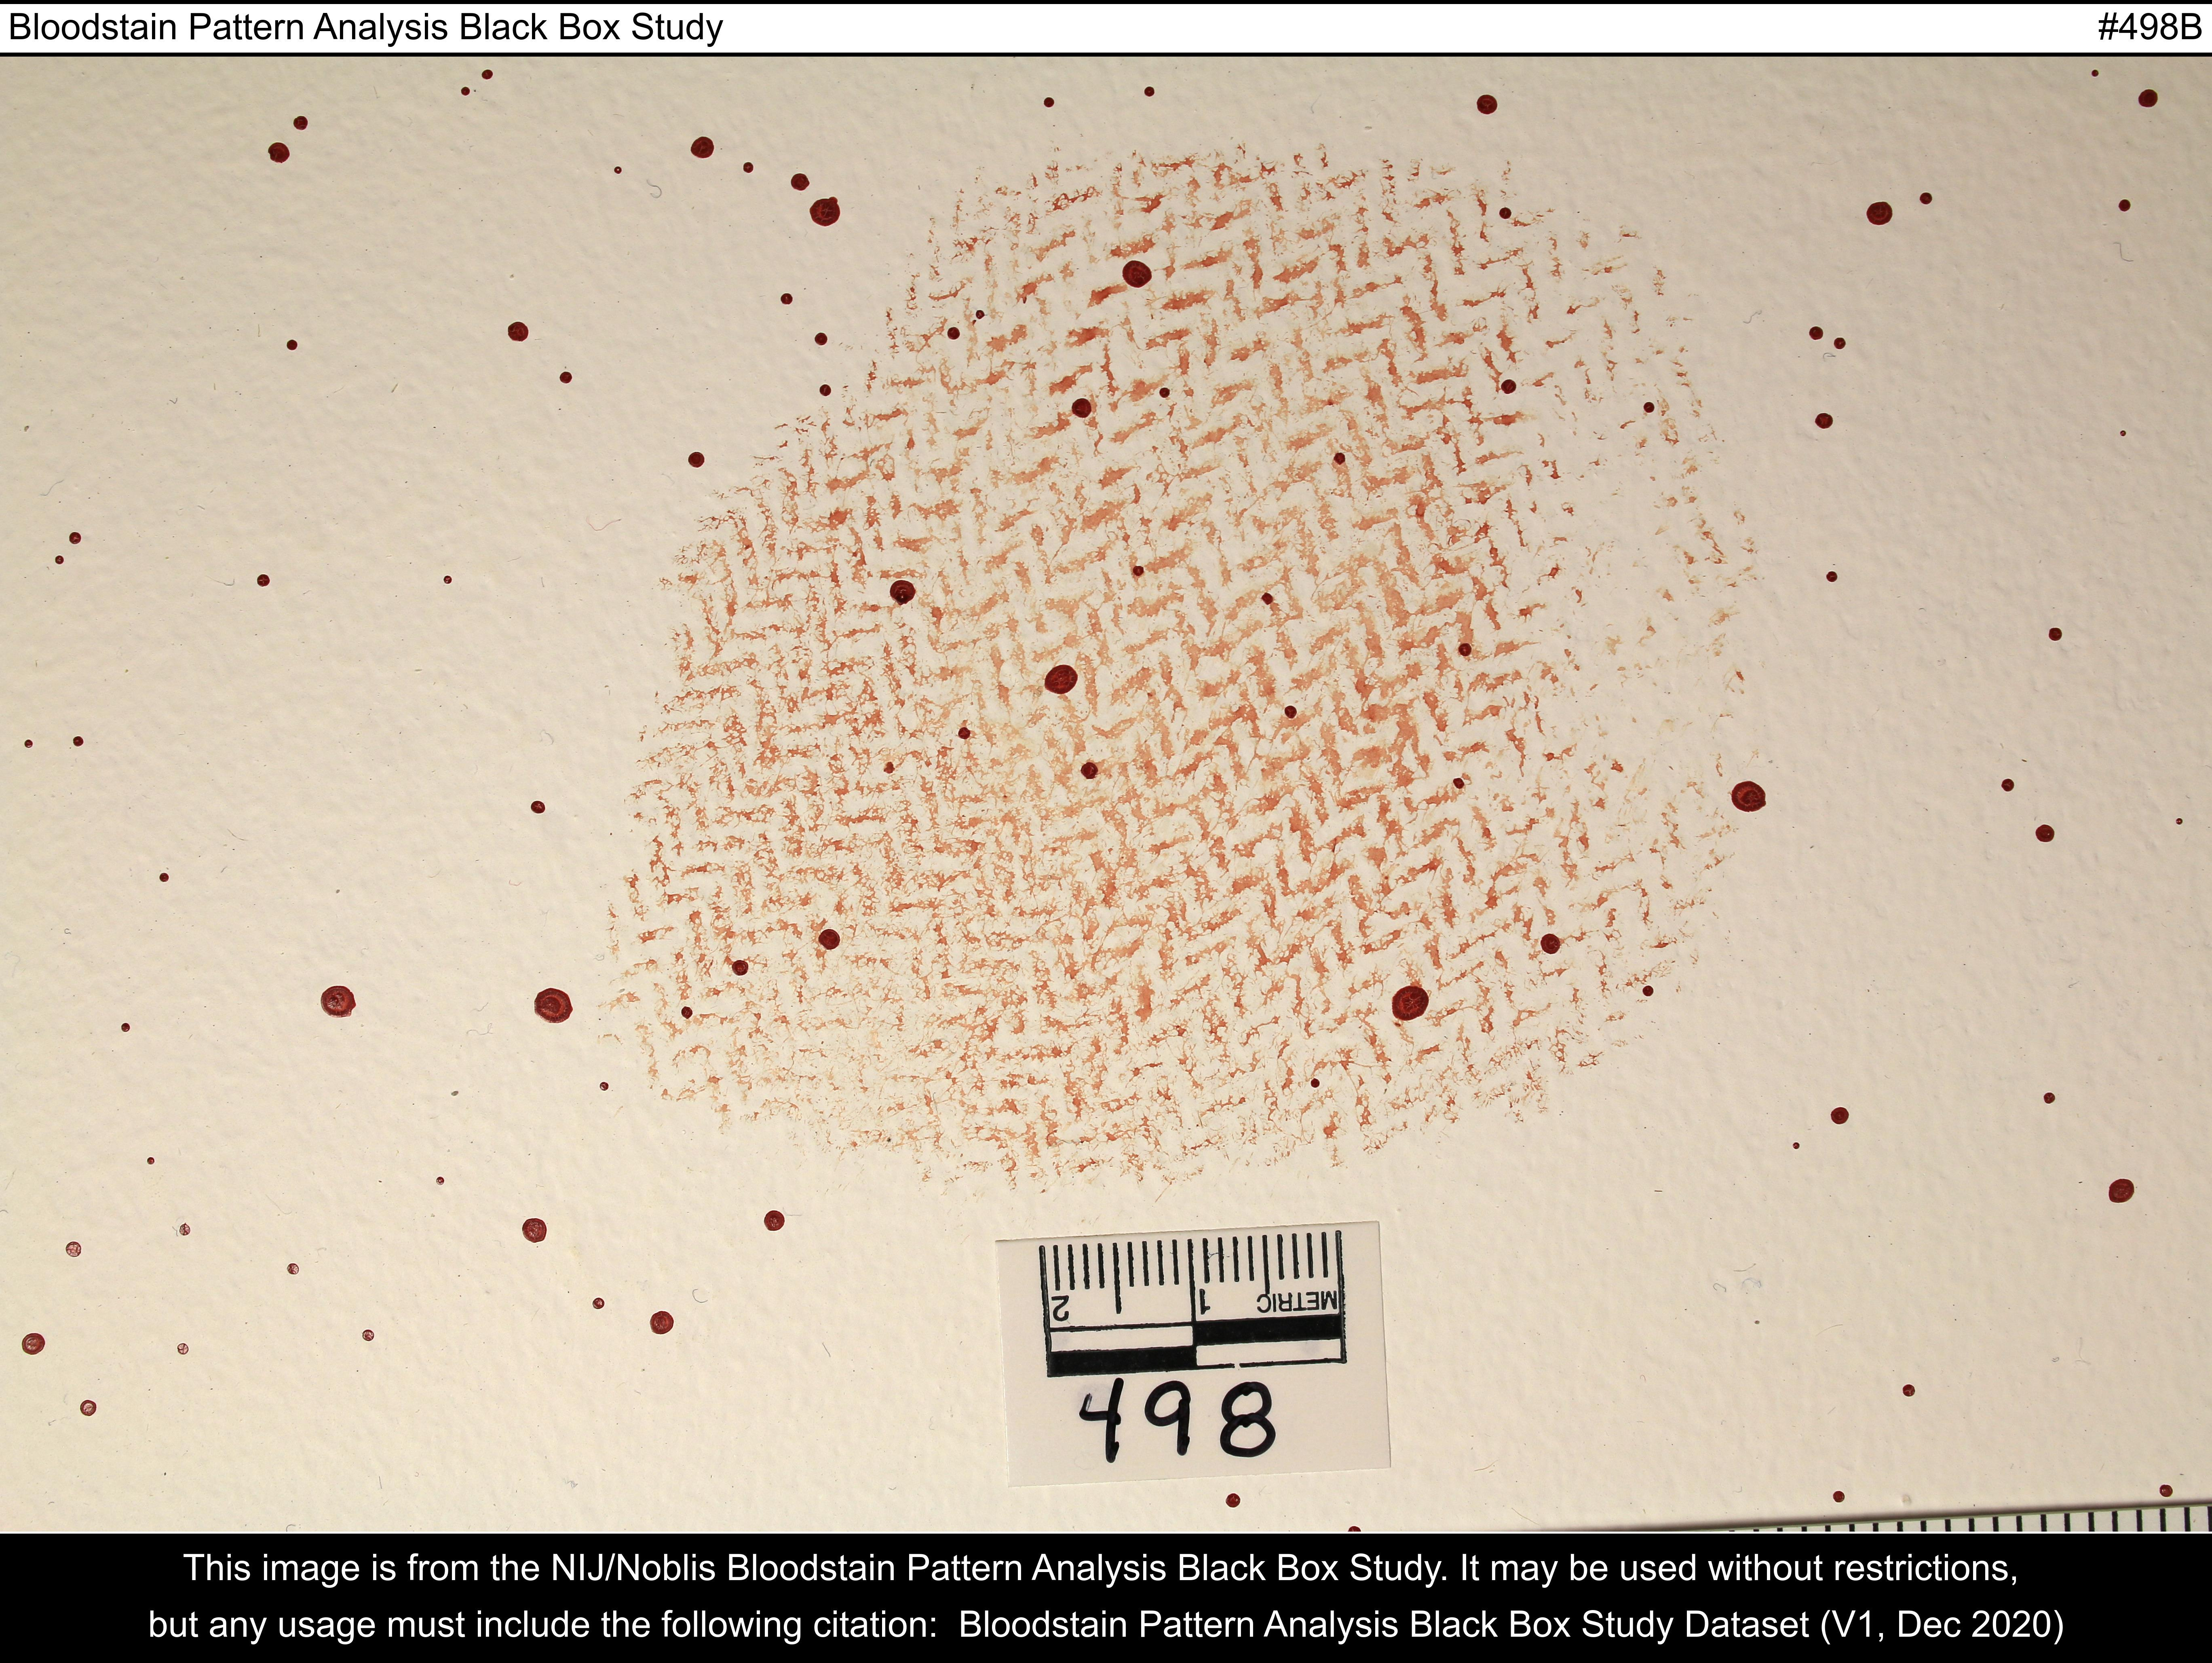Transfer: (592, 154, 1769, 1144)
